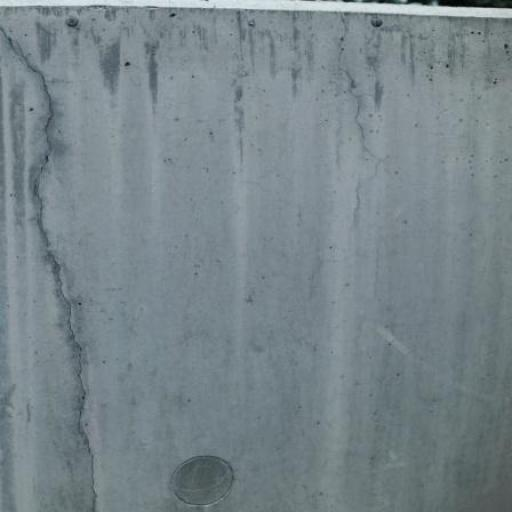spalling: (0, 31, 108, 503)
